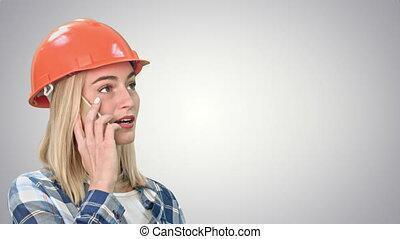helmet: (26, 17, 151, 108)
